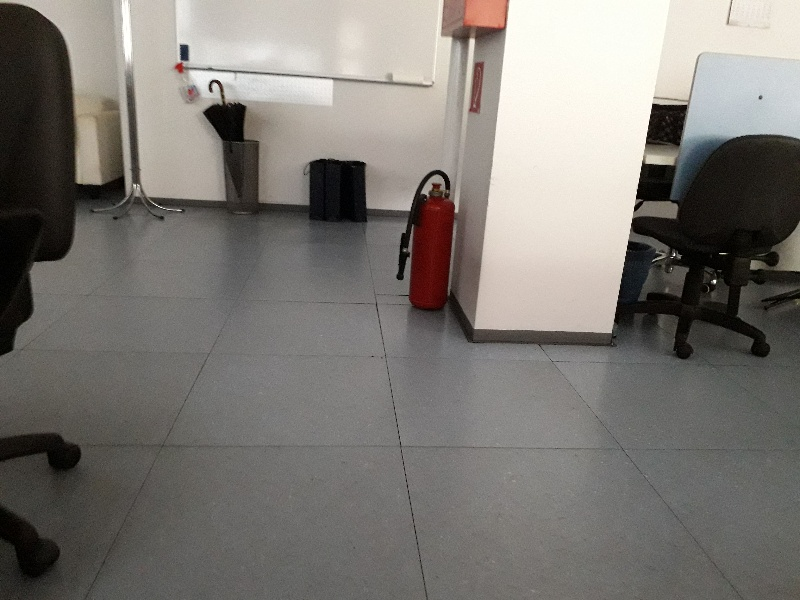vataparat: (396, 170, 454, 309)
